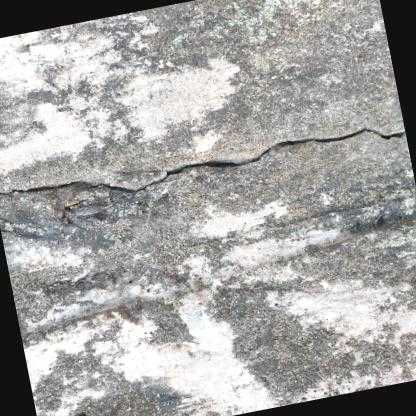crack: (0, 123, 406, 197)
